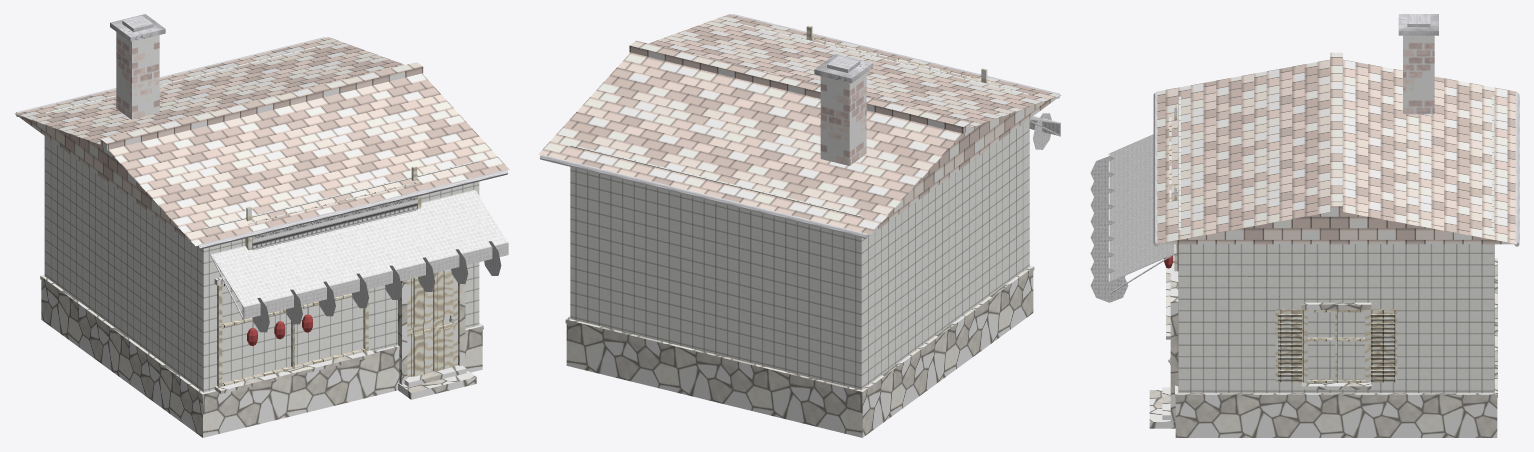
File: macelleria.obj
The picture shows the model from 3 angles, left to right: view 1: azimuth 30°, elevation 25°; view 2: azimuth 150°, elevation 25°; view 3: azimuth 270°, elevation 25°; orthographic projection. The views are drawn at different scales.
Parts seen in each view (by area): view 1: tegole_002, piastrelle_muro_000, pietra_001, tessuto_009, tessuto_010, mattone_004, legno_013, legno_015, stampa_a_008, metallo_003, legno_020, pietra_014 (+7 smaller); view 2: piastrelle_muro_000, tegole_002, pietra_001, mattone_004, metallo_003, cemento_005, tessuto_009, legno_007; view 3: tegole_002, piastrelle_muro_000, pietra_001, tessuto_010, legno_025, tessuto_009, mattone_004, metallo_003, legno_023, pietra_014, pietra_024, pietra_017 (+2 smaller).
Boxes of the visible parts, x1,y1,x2,y2 form: tegole_002: [14, 37, 509, 246]; piastrelle_muro_000: [44, 45, 479, 392]; pietra_001: [40, 274, 483, 437]; tessuto_009: [210, 198, 475, 332]; tessuto_010: [243, 189, 508, 324]; mattone_004: [116, 32, 159, 119]; legno_013: [407, 269, 457, 377]; legno_015: [414, 269, 450, 376]; stampa_a_008: [252, 196, 417, 250]; metallo_003: [16, 37, 507, 249]; legno_020: [217, 283, 368, 387]; pietra_014: [398, 280, 465, 384]; piastrelle_muro_000: [570, 23, 1029, 389]; tegole_002: [538, 14, 1061, 235]; pietra_001: [565, 265, 1034, 437]; mattone_004: [820, 72, 866, 165]; metallo_003: [539, 14, 1059, 238]; cemento_005: [814, 54, 872, 83]; tessuto_009: [1029, 113, 1060, 149]; legno_007: [806, 25, 991, 83]; tegole_002: [1156, 52, 1516, 244]; piastrelle_muro_000: [1178, 96, 1494, 393]; pietra_001: [1175, 258, 1497, 437]; tessuto_010: [1090, 150, 1176, 302]; legno_025: [1275, 309, 1397, 382]; tessuto_009: [1090, 134, 1153, 277]; mattone_004: [1403, 35, 1434, 114]; metallo_003: [1153, 92, 1519, 246]; legno_023: [1304, 310, 1368, 382]; pietra_014: [1170, 271, 1178, 421]; pietra_024: [1301, 302, 1371, 389]; pietra_017: [1149, 390, 1175, 428].
Bounding box in the file's own units: 5.74 × 5.41 × 6.77.
23 materials, 22 textured.
